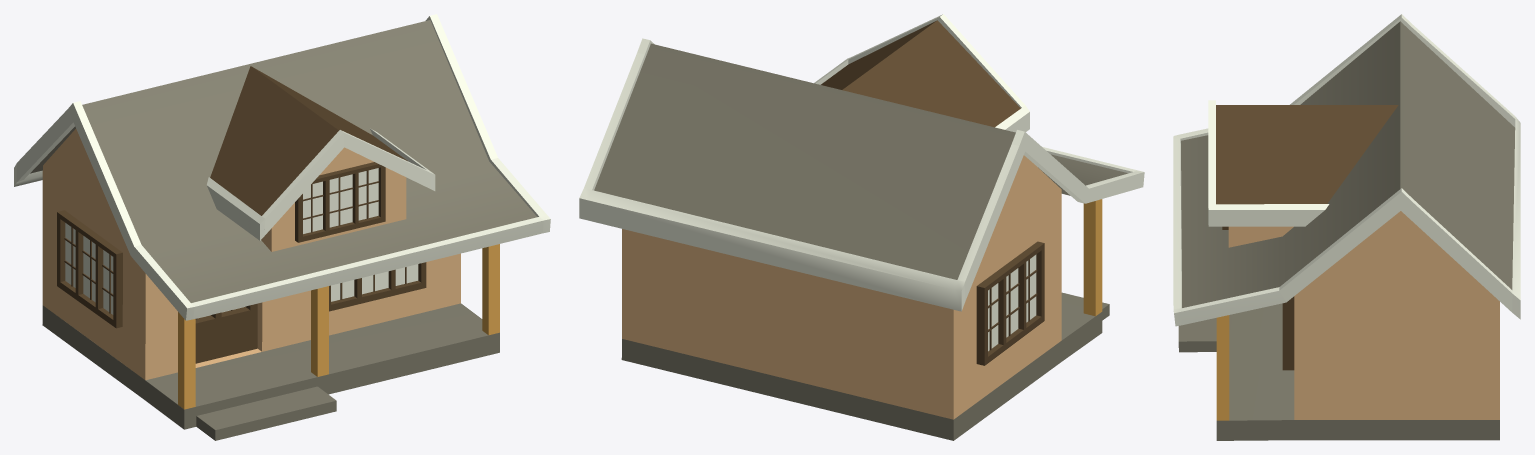
Rendered from asset.gltf.
3 renders of one model, left to right at view 1: azimuth 30°, elevation 25°; view 2: azimuth 150°, elevation 25°; view 3: azimuth 270°, elevation 25°, orthographic. The views are drawn at different scales.
Parts seen in each view (by area): view 1: Object_2; view 2: Object_2; view 3: Object_2.
Boxes of the visible parts, x1,y1,x2,y2 form: Object_2: (14,14,550,440); Object_2: (579,14,1144,440); Object_2: (1173,14,1520,440).
Size of the model in its own units: 2.46 by 1.7 by 2.03.
Materials: 1 (1 with a texture image).
